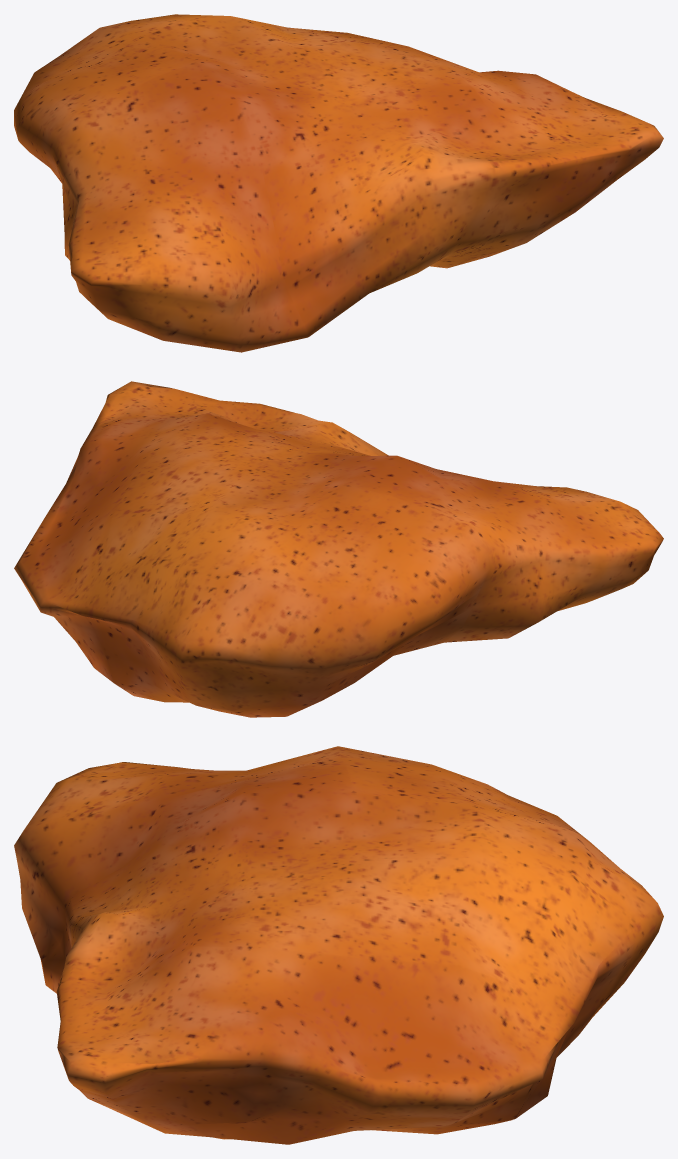
File: FriedChicken_B.fbx
3 views of the same model, one above another, from view 1: azimuth 30°, elevation 25°; view 2: azimuth 150°, elevation 25°; view 3: azimuth 270°, elevation 25° (orthographic). The views are drawn at different scales.
Parts seen in each view (by area): view 1: FriedChicken_B; view 2: FriedChicken_B; view 3: FriedChicken_B.
Boxes of the visible parts, box(x1,y1,x2,y2) form: FriedChicken_B: box(14, 14, 663, 352); FriedChicken_B: box(14, 381, 663, 717); FriedChicken_B: box(14, 746, 663, 1144).
Bounding box in the file's own units: 0.2036 × 0.0707 × 0.1704.
